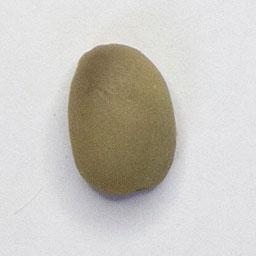premium: (63, 41, 179, 200)
